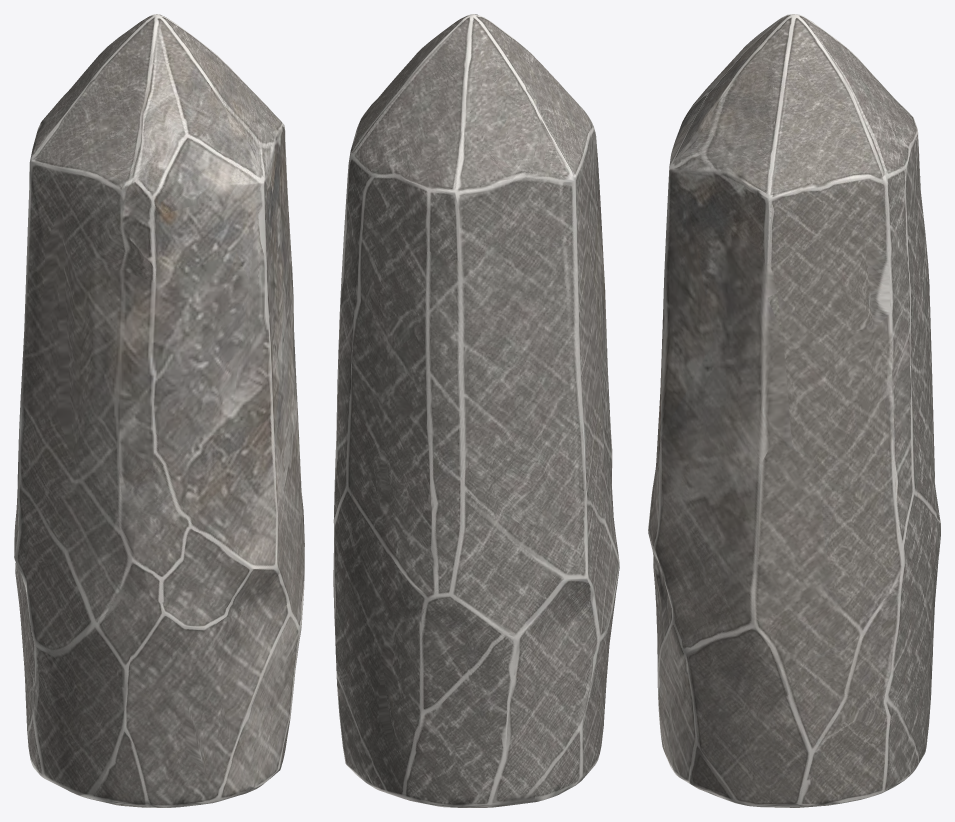
The model's file is obj_crystal.glb.
3 views of the same model, side by side, from view 1: azimuth 30°, elevation 25°; view 2: azimuth 150°, elevation 25°; view 3: azimuth 270°, elevation 25° (orthographic).
Parts seen in each view (by area): view 1: Mesh_0; view 2: Mesh_0; view 3: Mesh_0.
Part boxes in pixels (x1,y1,x2,y2): Mesh_0: (14, 14, 304, 807); Mesh_0: (333, 14, 619, 807); Mesh_0: (648, 14, 940, 807).
Bounding box in the file's own units: 0.6857 × 1.9 × 0.678.
1 material, 1 textured.
